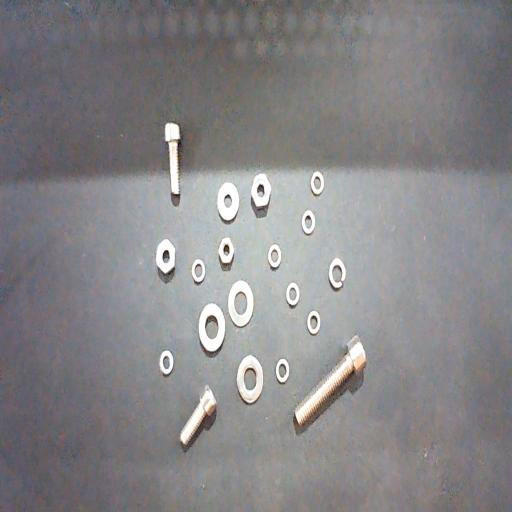nut: (250, 172, 272, 211), (156, 238, 176, 275), (218, 237, 234, 265)
screw: (295, 334, 367, 426), (180, 384, 217, 446), (164, 122, 180, 195)
washer: (198, 303, 226, 352), (236, 354, 263, 404), (228, 280, 254, 328), (217, 181, 240, 222), (329, 258, 346, 290), (275, 358, 290, 384), (159, 350, 174, 376), (268, 243, 282, 269), (310, 170, 324, 195), (192, 259, 206, 283), (286, 282, 300, 306), (302, 210, 316, 234), (308, 310, 320, 335)
